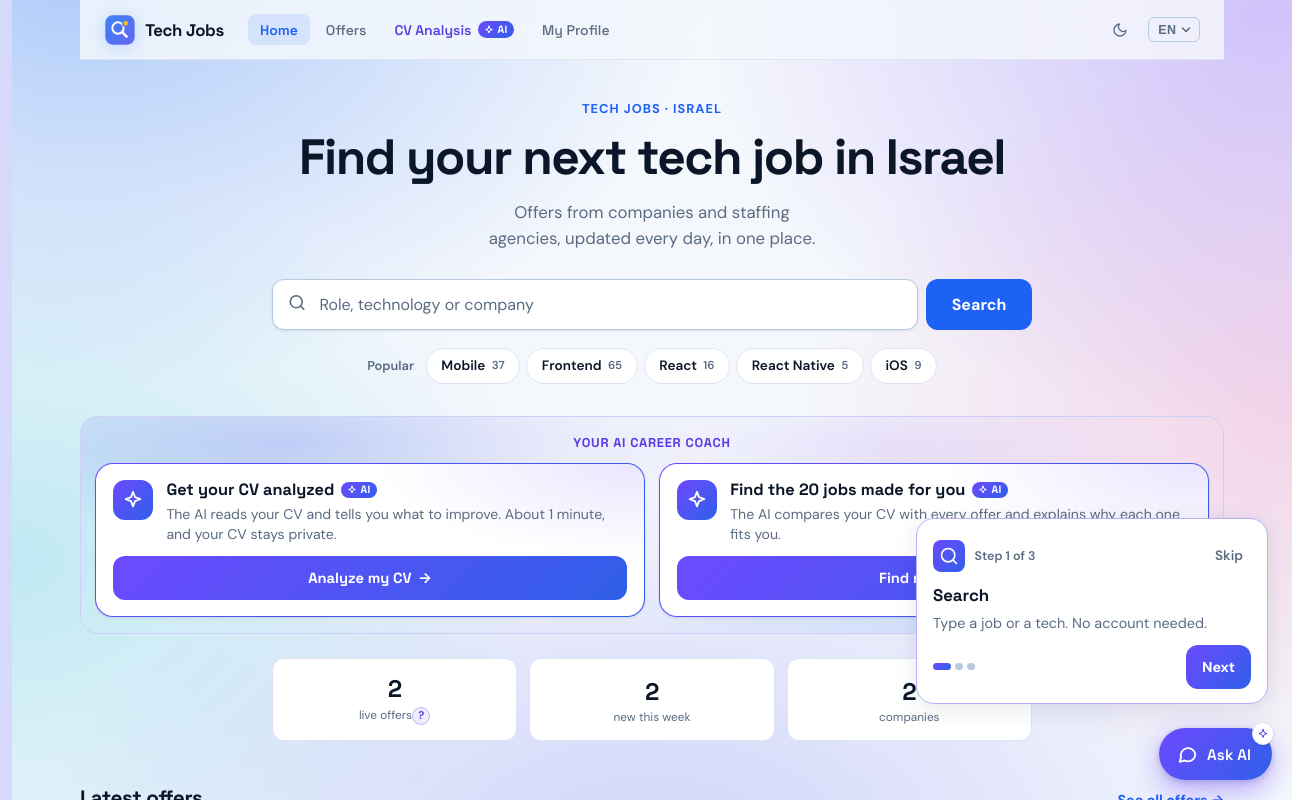
Scenario: HomePage (integration) › the whole app lands on the home page and opens the browser on /jobs
The image size is (1292, 800).
Expected: the heading "Find your next tech job in Israel" is shown, left=299, top=129, right=1005, bottom=184
Click the link "Offers": click(346, 30) left=326, top=20, right=366, bottom=38
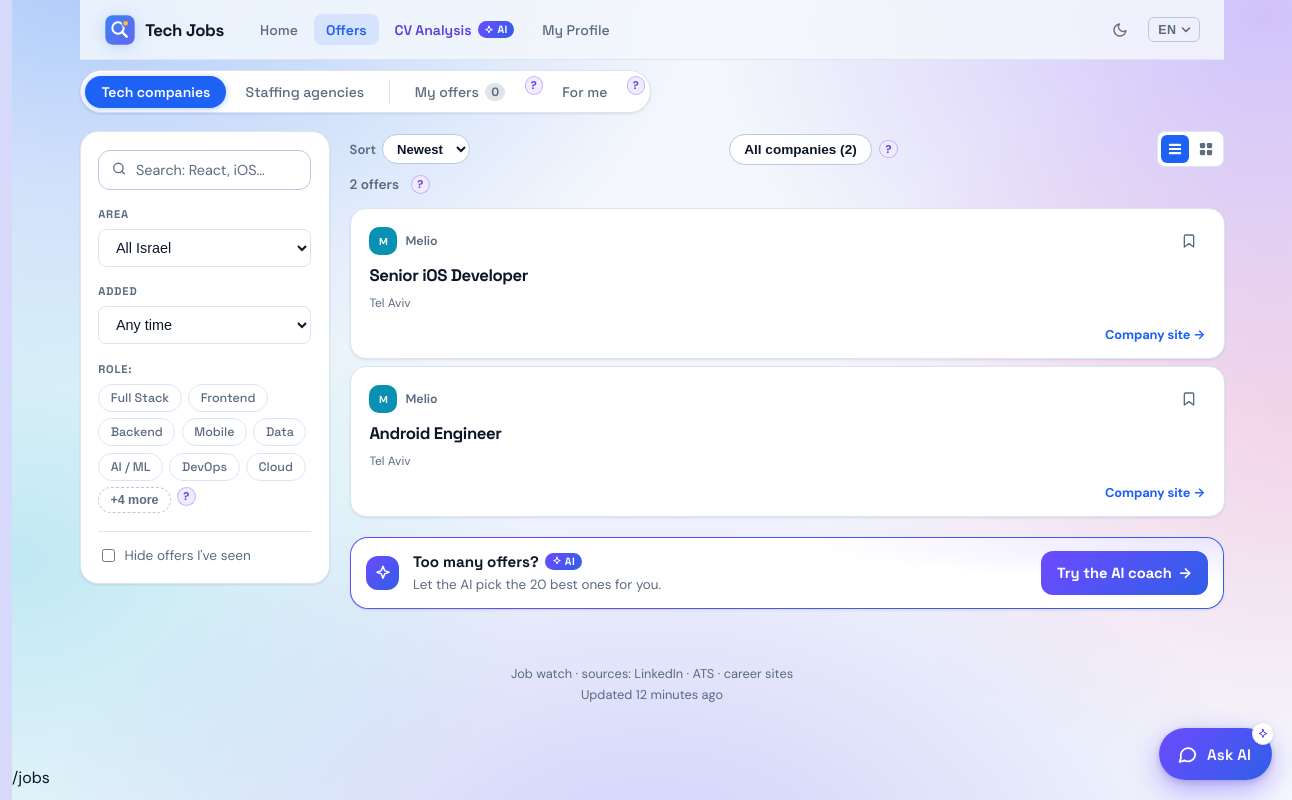
Now the element showing "Tech companies Staffing agencies My offers 0 ? For me ?" is shown, box left=80, top=70, right=651, bottom=113
Now the text with test id "location" reads "/jobs", box left=12, top=767, right=50, bottom=788
